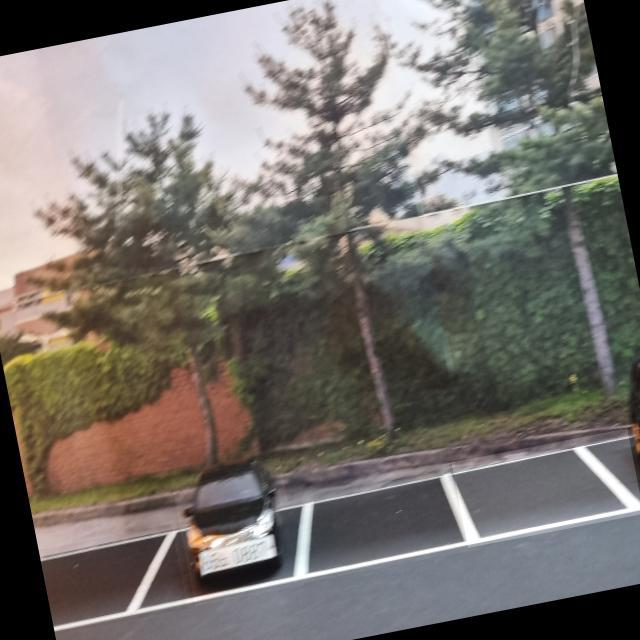empty: (284, 468, 477, 584), (452, 428, 640, 547), (39, 524, 188, 634)
occupied: (170, 457, 304, 606)
